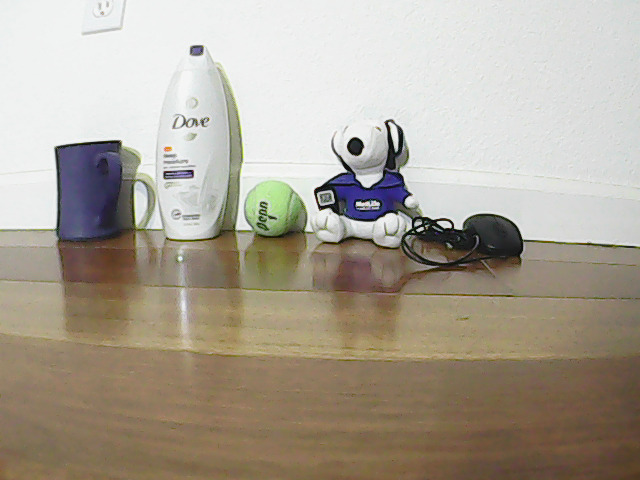ball: (252, 172, 302, 239)
mouse: (474, 209, 529, 265)
mug: (49, 122, 136, 245)
snoopy: (322, 115, 410, 252)
soap: (154, 23, 237, 246)
